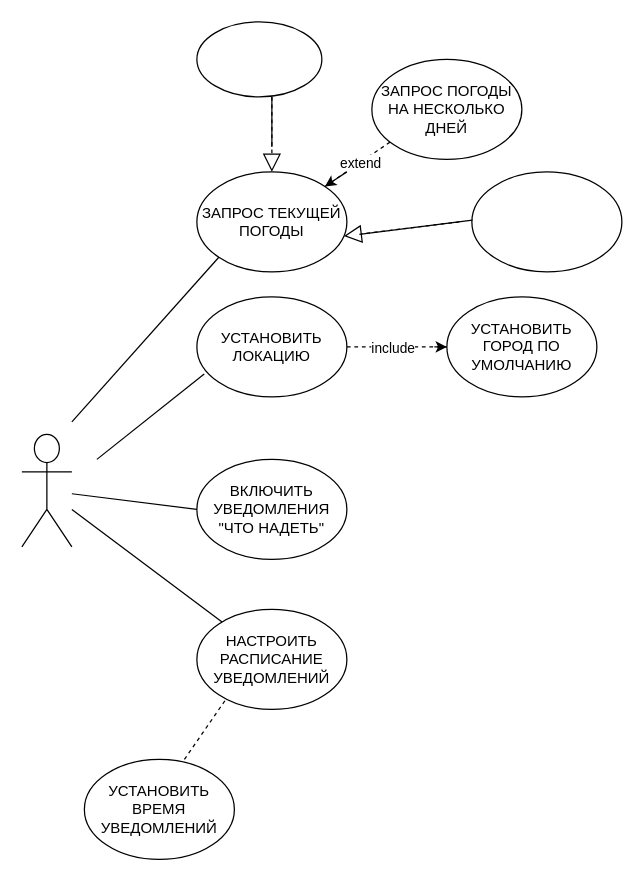
Some shapes in this 644 by 881 pixel diagram are drawn without their labels. The shapes that lost their labels are listed below. From the top down, each one's box as (x1, y1, x2, y2) in pixels, then its label:
(196, 21, 322, 97): ТЕКУЩАЯ ВЛАЖНОСТЬ
(471, 171, 622, 272): ТЕКУЩАЯ ТЕМПЕРАТУРА
(21, 433, 72, 547): Actor
